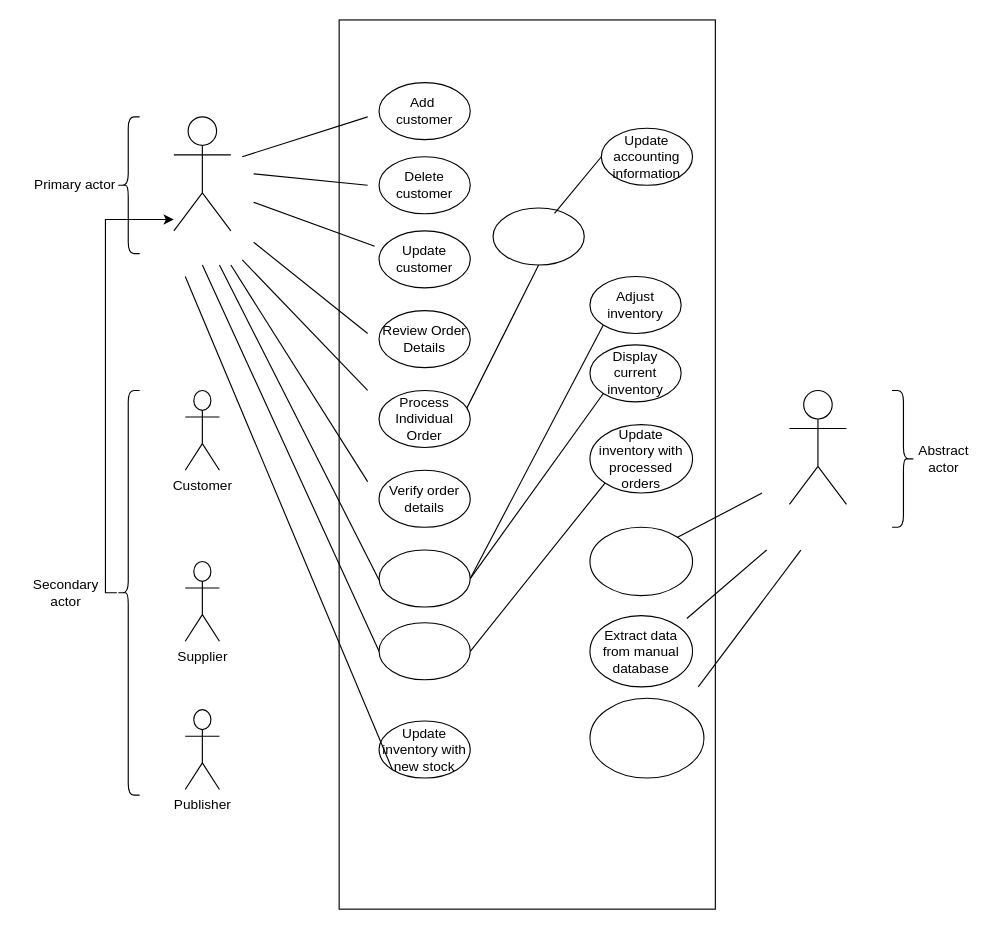
Image size: 1002x929. Some labels were removed from this diagram. The box of each missing label's shape, as (x1, y1, x2, y2) in pixels:
Bookshop staff: (173, 116, 231, 231)
Display Pending Orders: (378, 549, 470, 607)
Generate invoices: (492, 207, 584, 265)
Initiate data migration process: (589, 526, 693, 596)
Retrieve processed orders: (378, 622, 470, 680)
System administrator: (788, 389, 846, 504)
Transform and load data to new system: (589, 697, 704, 778)
